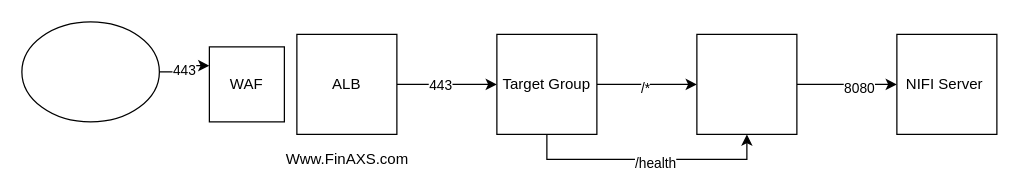
Image size: 1019x194. Some labels were removed from this diagram. Here are the shapes that lost their labels. From the top down, the centre of each, then its label:
At point 90,71: "User".
At point 746,83: "NGNIX".
